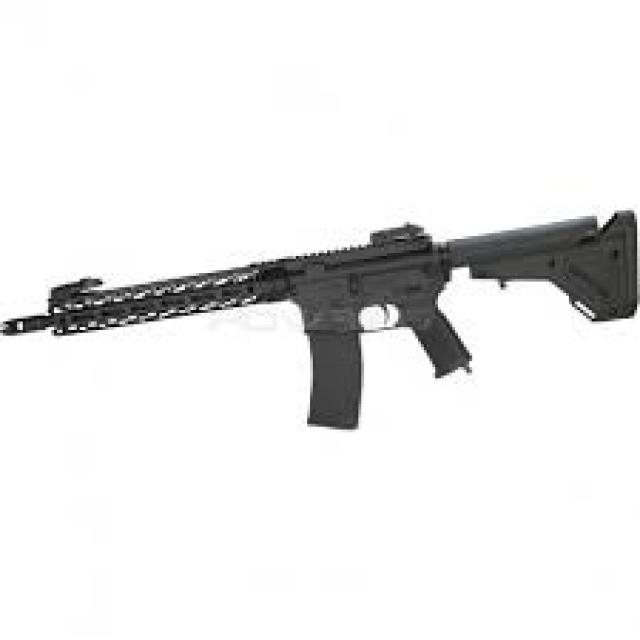rifle: (1, 199, 640, 443)
